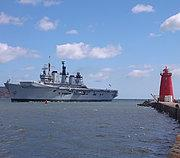MIL_Ship: (3, 56, 119, 104)
